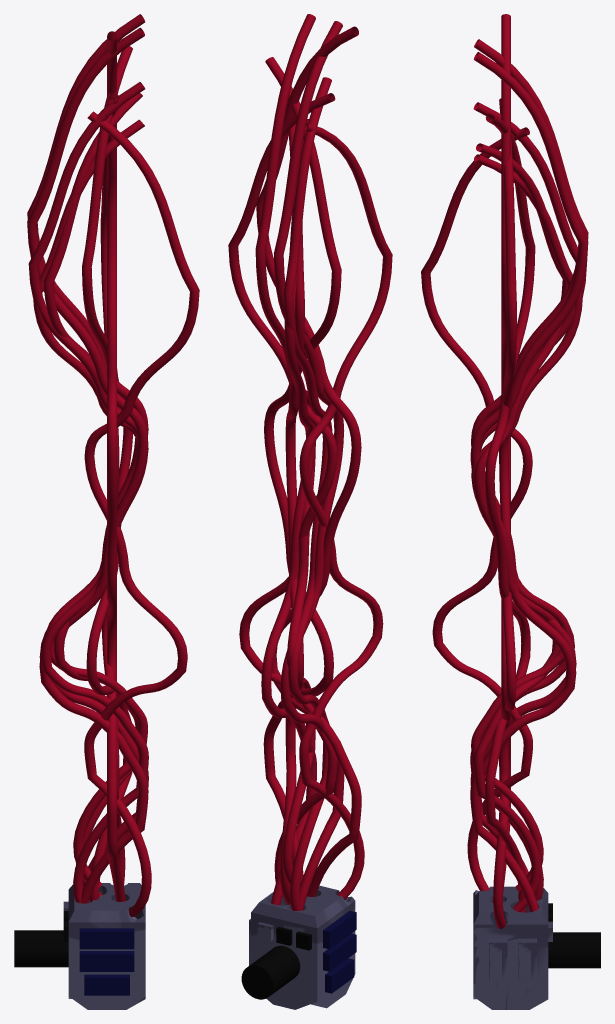
Rendered from FLOATING_THING_BEFORE_COAL_DROP_ON_TRAIN.glb.
3 renders of one model, left to right at view 1: azimuth 90°, elevation 25°; view 2: azimuth 150°, elevation 25°; view 3: azimuth 270°, elevation 25°, orthographic. The views are drawn at different scales.
Visible parts, largest first — view 1: Cube; view 2: Cube; view 3: Cube.
Boxes of the visible parts, x1,y1,x2,y2 form: Cube: [14, 14, 199, 1009]; Cube: [228, 14, 392, 1009]; Cube: [421, 14, 600, 1009].
Size of the model in its own units: 11.69 by 84.64 by 14.42.
Materials: 4 (1 with a texture image).
